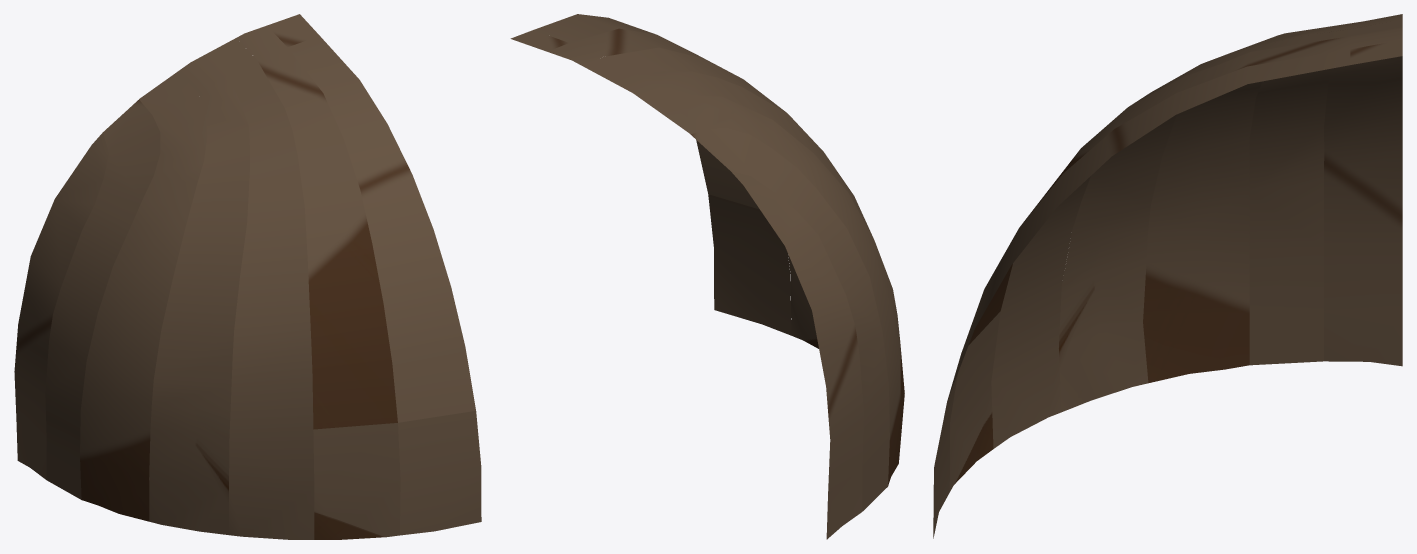
The model's file is Back_left_helm.fbx.
3 renders of one model, left to right at view 1: azimuth 30°, elevation 25°; view 2: azimuth 150°, elevation 25°; view 3: azimuth 270°, elevation 25°, orthographic. The views are drawn at different scales.
Parts seen in each view (by area): view 1: Back_left_helm_3_5, Back_left_helm_3_6, Back_left_helm_3_7, Back_left_helm_3_3, Back_left_helm_3_1, Back_left_helm_3_8, Back_left_helm_3_9, Back_left_helm_3_4, Back_left_helm_3_2; view 2: Back_left_helm_3_8, Back_left_helm_3_9, Back_left_helm_3_7, Back_left_helm_3_2, Back_left_helm_3_6, Back_left_helm_3_1, Back_left_helm_3_5, Back_left_helm_3_3, Back_left_helm_3_4; view 3: Back_left_helm_3_7, Back_left_helm_3_9, Back_left_helm_3_8, Back_left_helm_3_6, Back_left_helm_3_5, Back_left_helm_3_1, Back_left_helm_3_3, Back_left_helm_3_4, Back_left_helm_3_2.
Boxes of the visible parts, <box> form: Back_left_helm_3_5: <box>207,38,314,539</box>; Back_left_helm_3_6: <box>149,54,249,534</box>; Back_left_helm_3_7: <box>80,71,207,521</box>; Back_left_helm_3_3: <box>236,25,397,429</box>; Back_left_helm_3_1: <box>267,14,475,422</box>; Back_left_helm_3_8: <box>45,100,160,499</box>; Back_left_helm_3_9: <box>14,132,108,479</box>; Back_left_helm_3_4: <box>313,423,400,539</box>; Back_left_helm_3_2: <box>398,411,481,535</box>; Back_left_helm_3_8: <box>690,128,889,511</box>; Back_left_helm_3_9: <box>731,171,863,539</box>; Back_left_helm_3_7: <box>647,94,904,485</box>; Back_left_helm_3_2: <box>708,194,791,335</box>; Back_left_helm_3_6: <box>614,71,873,238</box>; Back_left_helm_3_1: <box>510,14,759,209</box>; Back_left_helm_3_5: <box>582,47,786,112</box>; Back_left_helm_3_3: <box>547,28,738,76</box>; Back_left_helm_3_4: <box>788,254,818,348</box>; Back_left_helm_3_7: <box>1143,14,1402,383</box>; Back_left_helm_3_9: <box>1324,56,1402,366</box>; Back_left_helm_3_8: <box>1249,27,1357,365</box>; Back_left_helm_3_6: <box>1059,15,1402,412</box>; Back_left_helm_3_5: <box>991,19,1402,448</box>; Back_left_helm_3_1: <box>948,40,1402,398</box>; Back_left_helm_3_3: <box>969,27,1402,344</box>; Back_left_helm_3_4: <box>949,311,1000,491</box>; Back_left_helm_3_2: <box>933,374,957,538</box>.
Bounding box in the file's own units: 9.16 × 11.59 × 10.1.
